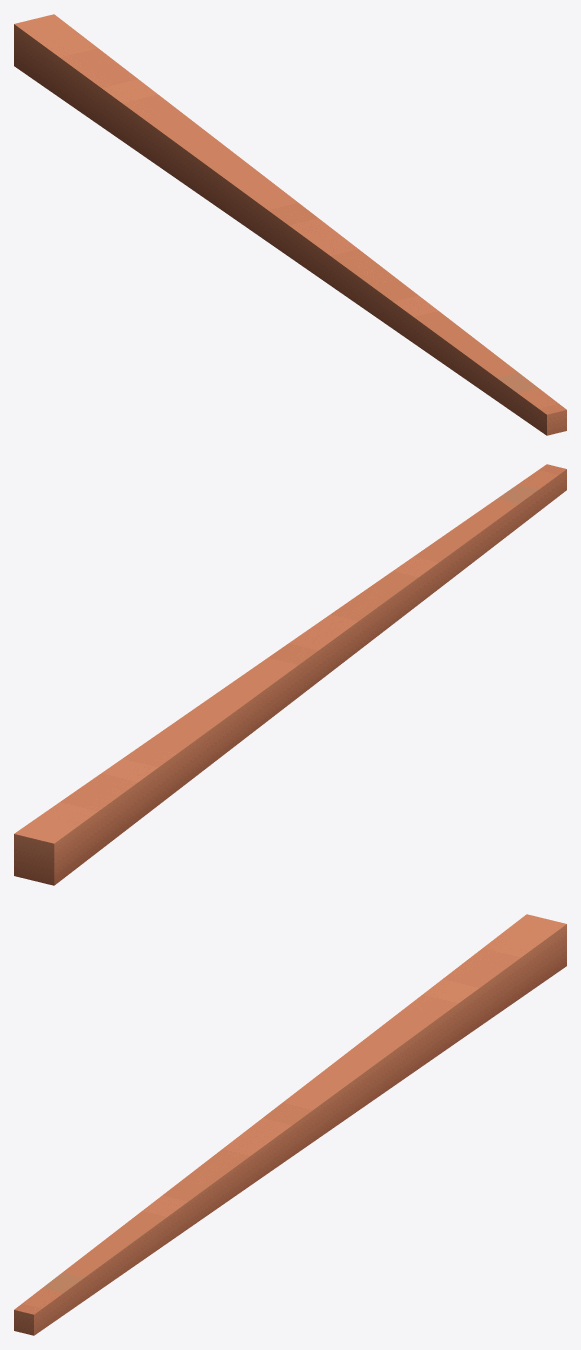
Rendered from chopstick.glb.
3 views of the same model, one above another, from view 1: azimuth 30°, elevation 25°; view 2: azimuth 150°, elevation 25°; view 3: azimuth 330°, elevation 25° (orthographic).
Parts seen in each view (by area): view 1: chopstick; view 2: chopstick; view 3: chopstick.
Part boxes in pixels (x1,y1,x2,y2): chopstick: (14,14,566,435); chopstick: (14,464,566,885); chopstick: (14,914,566,1335).
Size of the model in its own units: 0.02 by 0.02 by 0.45.
1 material, 1 textured.
